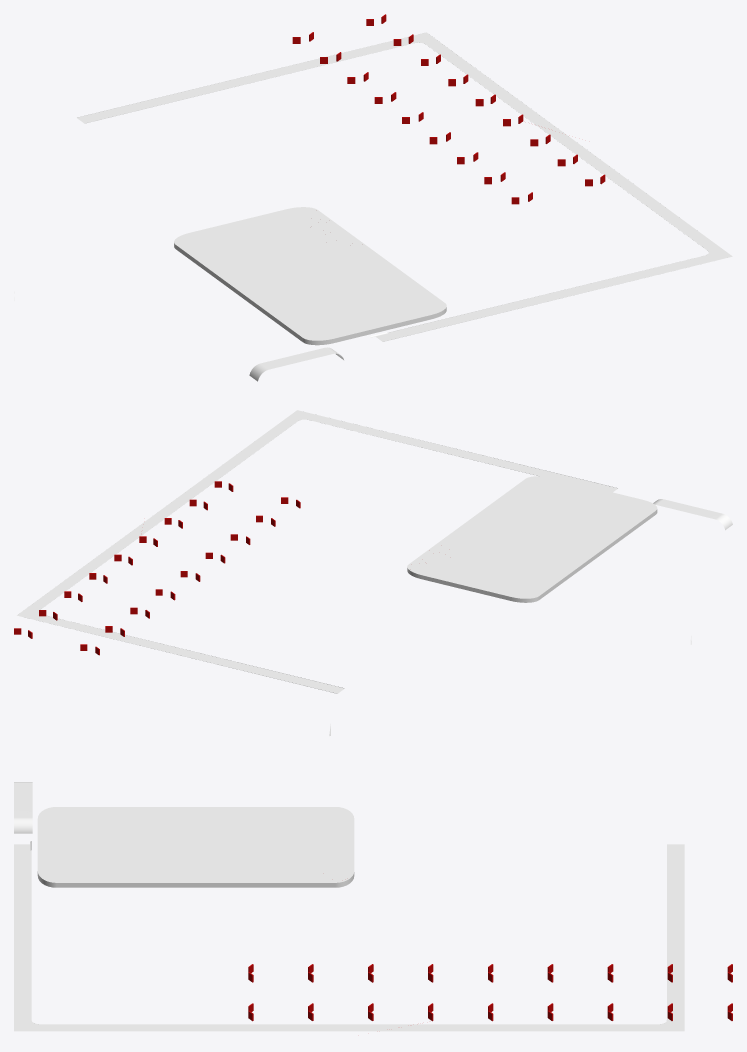
Rendered from FloatingAptMainTrim_mesh.fbx.
The picture shows the model from 3 angles, top to bottom: view 1: azimuth 30°, elevation 25°; view 2: azimuth 150°, elevation 25°; view 3: azimuth 270°, elevation 25°; orthographic projection. The views are drawn at different scales.
Visible parts, largest first — view 1: FloatingAptMainTrim_mesh; view 2: FloatingAptMainTrim_mesh; view 3: FloatingAptMainTrim_mesh.
Part boxes in pixels (box(x1,y1,x2,y2)): FloatingAptMainTrim_mesh: box(14, 14, 732, 381); FloatingAptMainTrim_mesh: box(14, 410, 732, 693); FloatingAptMainTrim_mesh: box(14, 724, 732, 1031).
Size of the model in its own units: 895 by 24.82 by 868.
